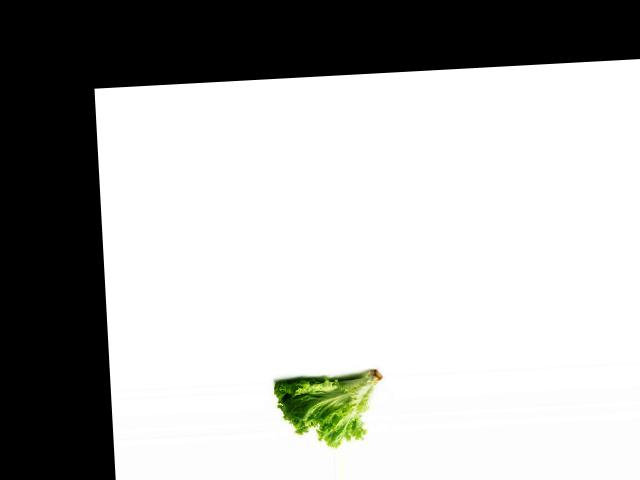lettuce: (273, 367, 388, 451)
